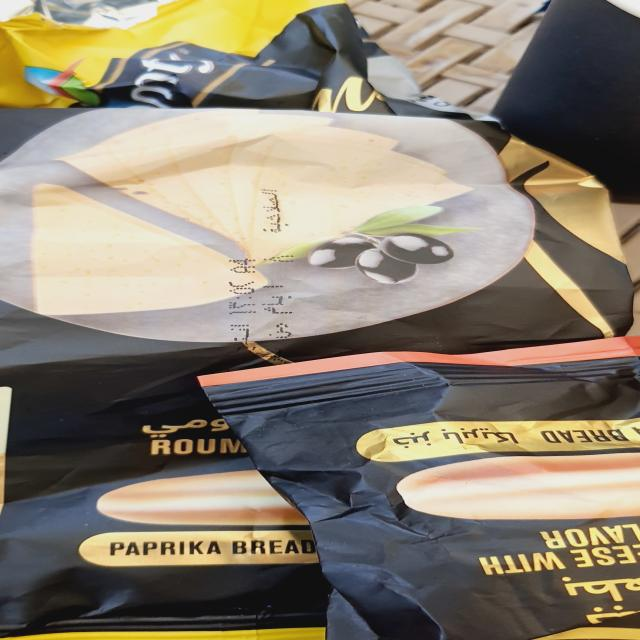Metal: (196, 326, 640, 640)
